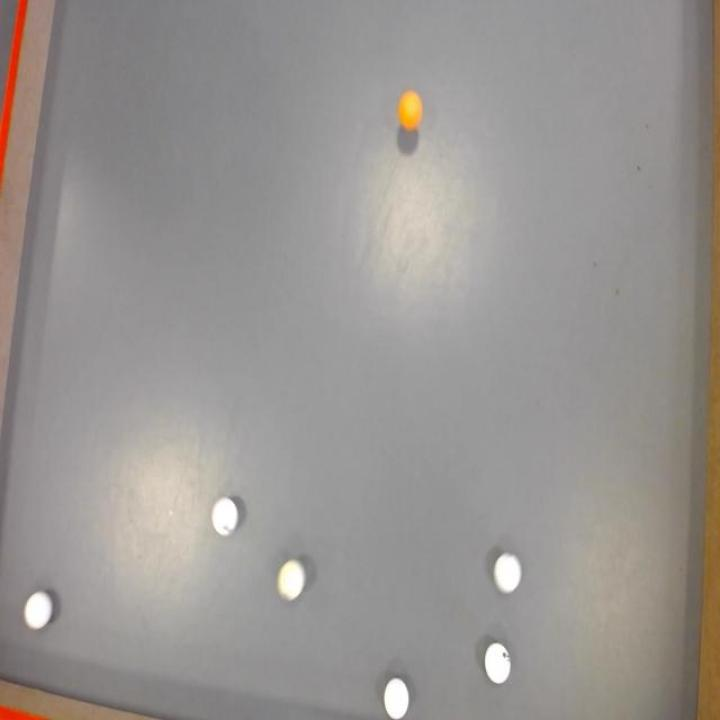orange: (399, 87, 422, 130)
white: (210, 495, 238, 537), (382, 677, 409, 720), (25, 592, 54, 630), (278, 559, 304, 600), (495, 555, 522, 594), (484, 643, 510, 683)
